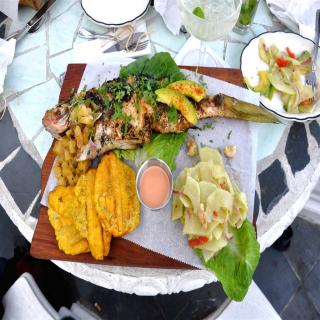Salad: (163, 135, 256, 274), (243, 28, 319, 117)
